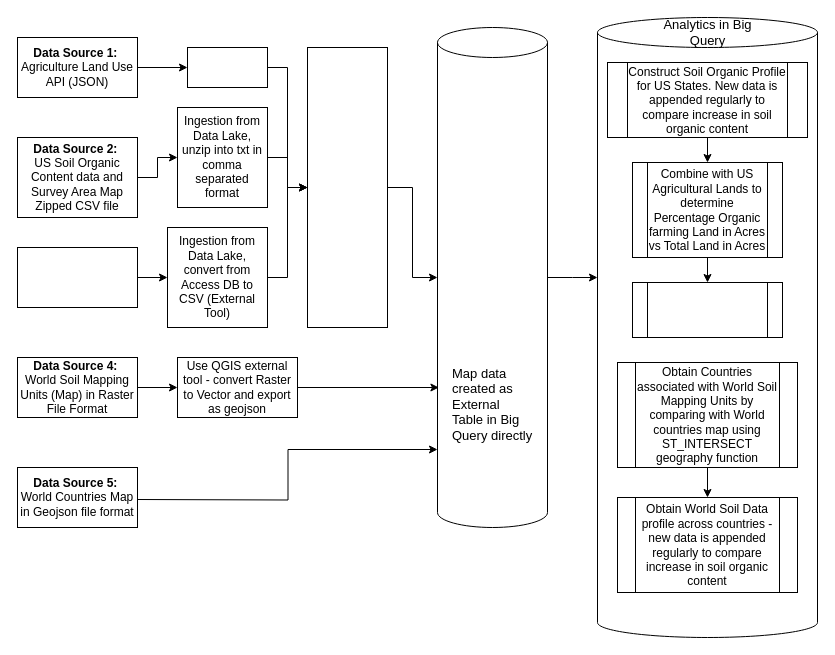
This 835x655 diagram has some shape labels left out. The shapes that lost their labels are listed below. From the top down, each one's box as (x1, y1, x2, y2) in pixels, then its label:
(186, 46, 268, 88): Ingestion from API
(306, 46, 388, 328): Data Transformation in Pyspark
(16, 246, 138, 308): Data Source 3: World Soil Organic Content Data in mdb format
(436, 26, 548, 528): Raw Data insert to Big Query
(632, 282, 782, 338): Associate US State with Survey Area Maps
